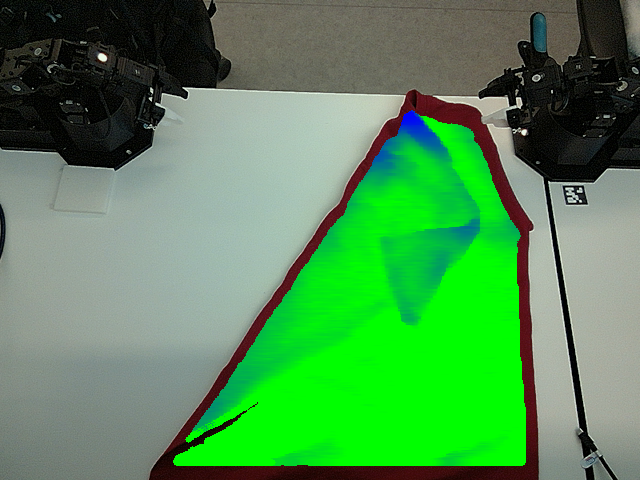V: (370, 221, 425, 273)
